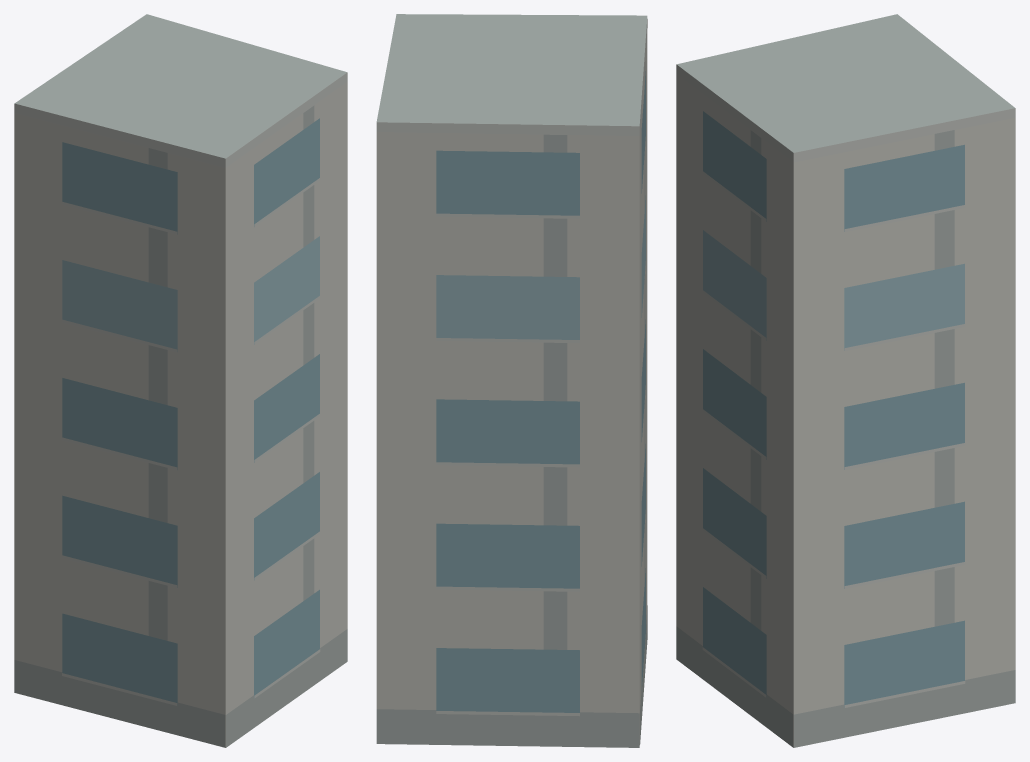
Rendered from survey-upis-32734607.glb.
3 views of the same model, side by side, from view 1: azimuth 30°, elevation 25°; view 2: azimuth 150°, elevation 25°; view 3: azimuth 270°, elevation 25° (orthographic). The views are drawn at different scales.
Parts seen in each view (by area): view 1: survey-upis-32734607.tmp; view 2: survey-upis-32734607.tmp; view 3: survey-upis-32734607.tmp.
Boxes of the visible parts, <box> form: survey-upis-32734607.tmp: <box>14,14,347,747</box>; survey-upis-32734607.tmp: <box>376,14,647,747</box>; survey-upis-32734607.tmp: <box>676,14,1015,747</box>.
Size of the model in its own units: 7.64 by 15.25 by 7.89.
